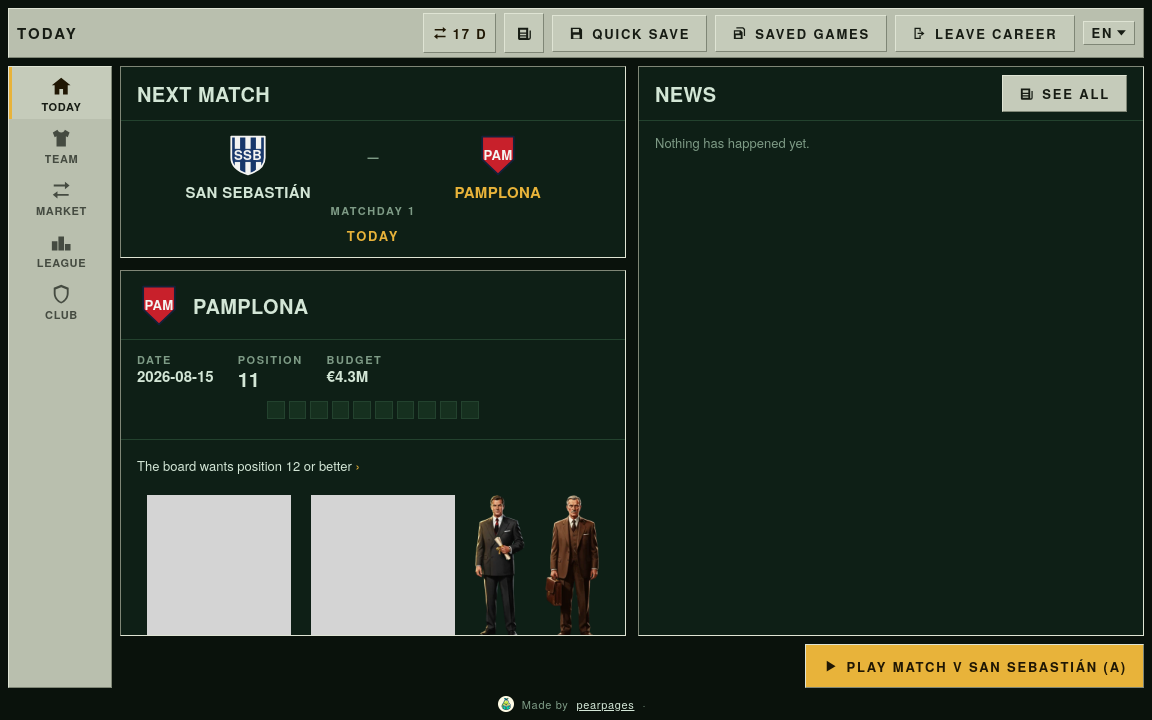
Test: a formation press › rebuilds the XI at once and offers it back
What coordinates should you click on to do the following:
click the button "Team"
I would click on:
 (60, 145)
Its box is [9, 119, 111, 171].
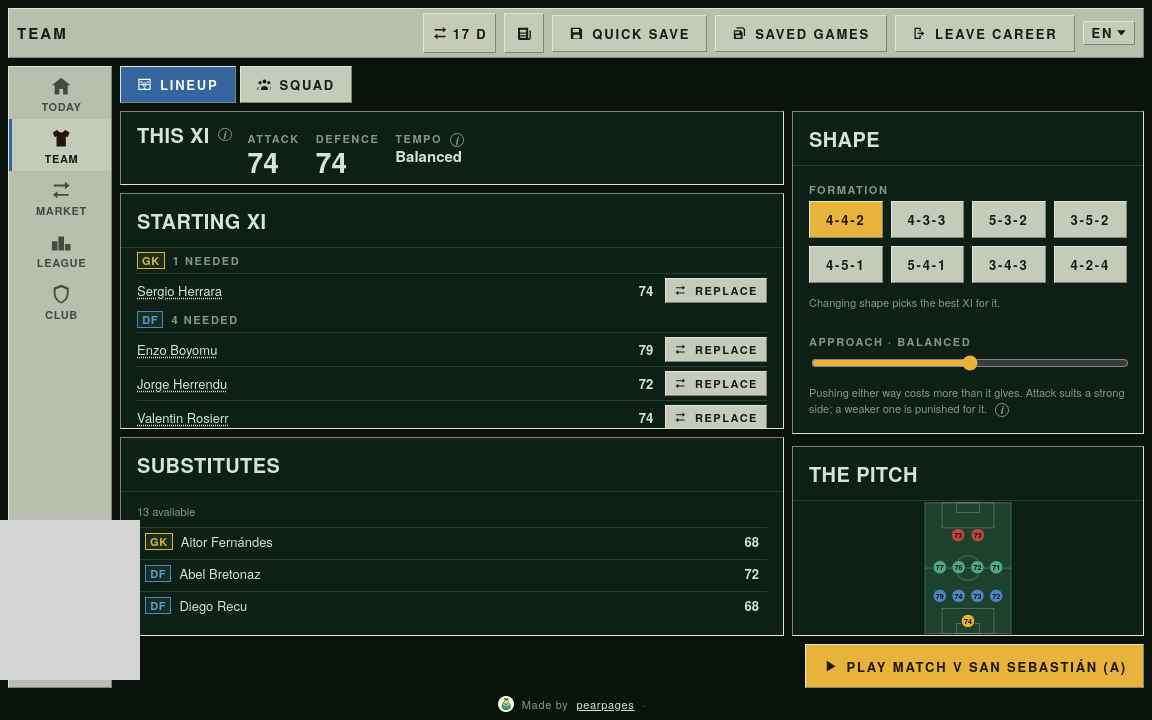
What coordinates should you click on to do the following:
click the button "4-3-3"
I would click on:
 (927, 220)
Its box is [890, 201, 964, 238].
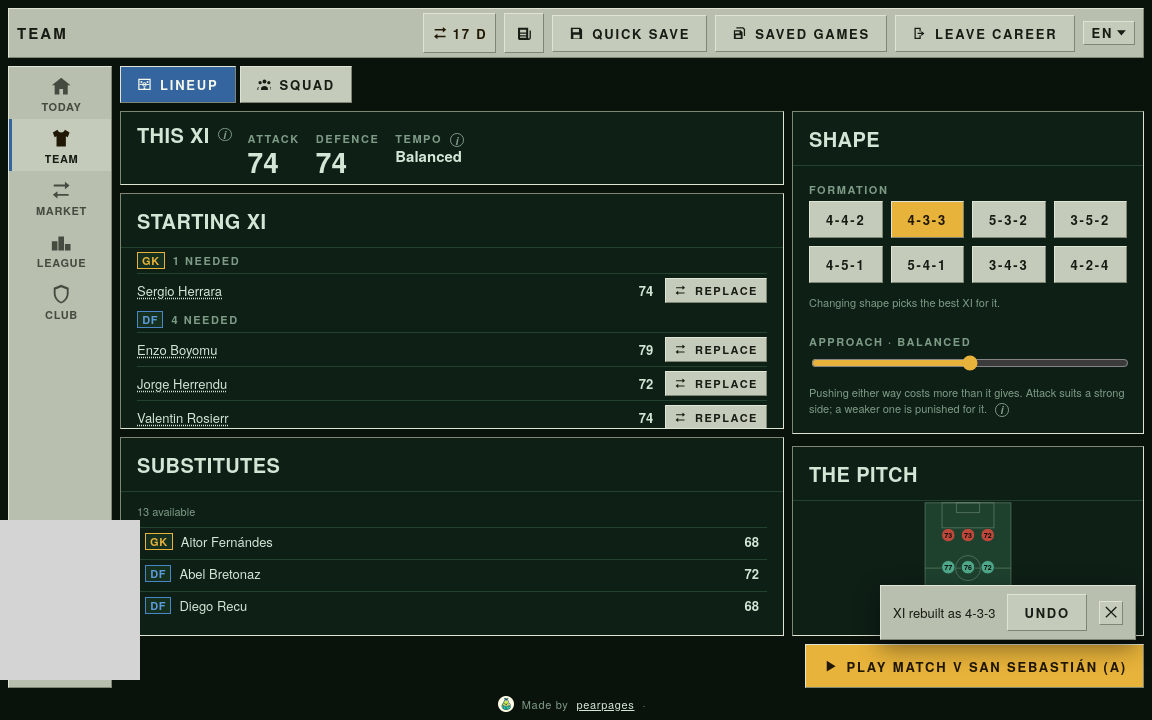
What coordinates should you click on to do the following:
click the button "Undo"
I would click on:
 (1047, 612)
Its box is [1007, 594, 1087, 631].
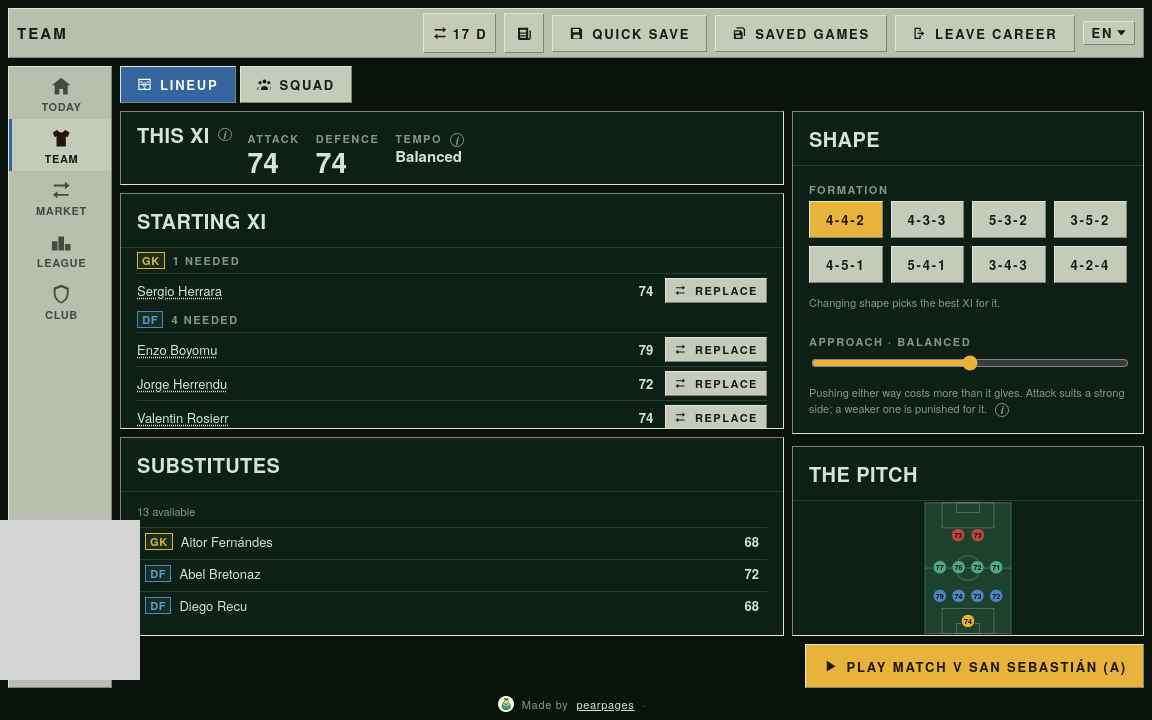
Expected: the button "Undo" is gone
